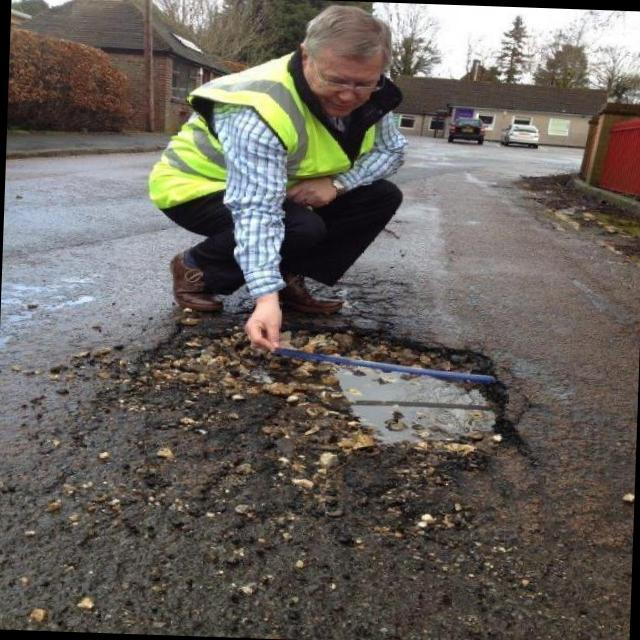Pothole: (147, 325, 506, 474)
